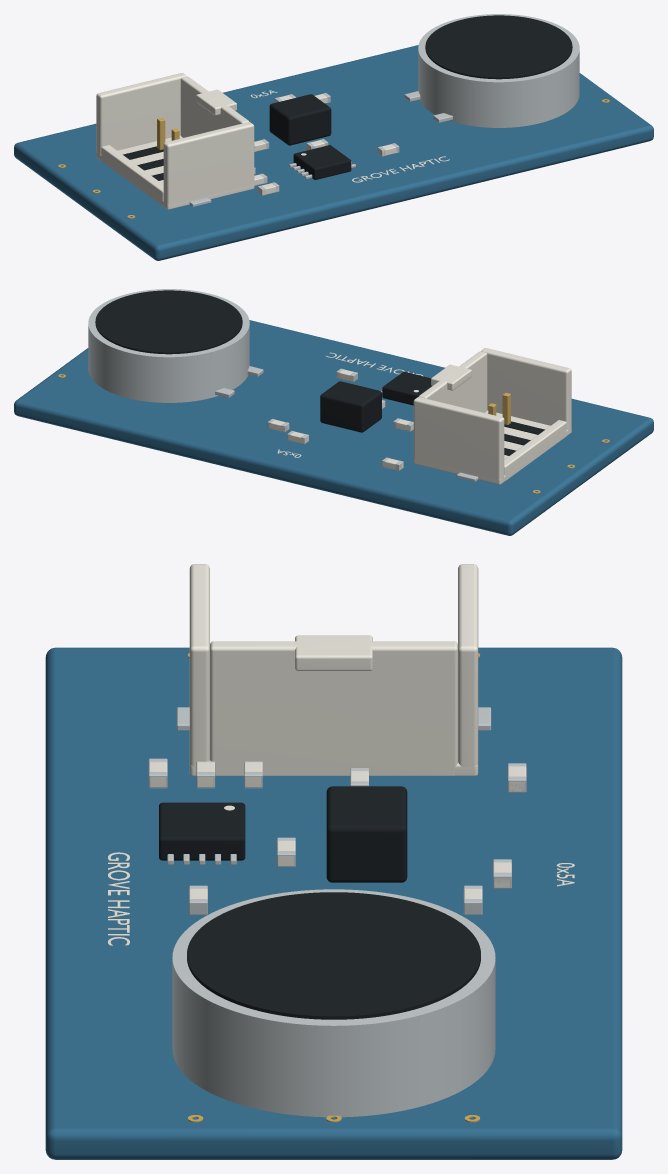
Rendered from grove-haptic.glb.
3 views of the same model, one above another, from view 1: azimuth 30°, elevation 25°; view 2: azimuth 150°, elevation 25°; view 3: azimuth 270°, elevation 25° (orthographic). The views are drawn at different scales.
Parts seen in each view (by area): view 1: grove-haptic / Blue.001, grove-haptic / Ceramic.001, grove-haptic / Black.001, grove-haptic / Tin.001, grove-haptic / Gold.001; view 2: grove-haptic / Blue.001, grove-haptic / Ceramic.001, grove-haptic / Black.001, grove-haptic / Tin.001, grove-haptic / Gold.001; view 3: grove-haptic / Blue.001, grove-haptic / Ceramic.001, grove-haptic / Black.001, grove-haptic / Tin.001.
Part boxes in pixels (x1,y1,x2,y2): grove-haptic / Blue.001: [14, 45, 653, 260]; grove-haptic / Ceramic.001: [96, 73, 449, 209]; grove-haptic / Black.001: [123, 15, 572, 180]; grove-haptic / Tin.001: [189, 14, 579, 206]; grove-haptic / Gold.001: [58, 99, 609, 218]; grove-haptic / Blue.001: [14, 320, 653, 535]; grove-haptic / Ceramic.001: [269, 348, 571, 484]; grove-haptic / Black.001: [95, 290, 544, 455]; grove-haptic / Tin.001: [88, 289, 478, 481]; grove-haptic / Gold.001: [58, 374, 609, 493]; grove-haptic / Blue.001: [45, 647, 622, 1159]; grove-haptic / Ceramic.001: [108, 564, 574, 945]; grove-haptic / Black.001: [159, 786, 480, 1019]; grove-haptic / Tin.001: [148, 707, 526, 1117].
Bounding box in the file's own units: 40 × 6.1 × 20.
